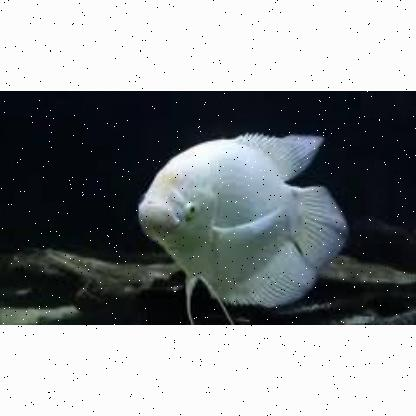gurame: (133, 133, 347, 307)
